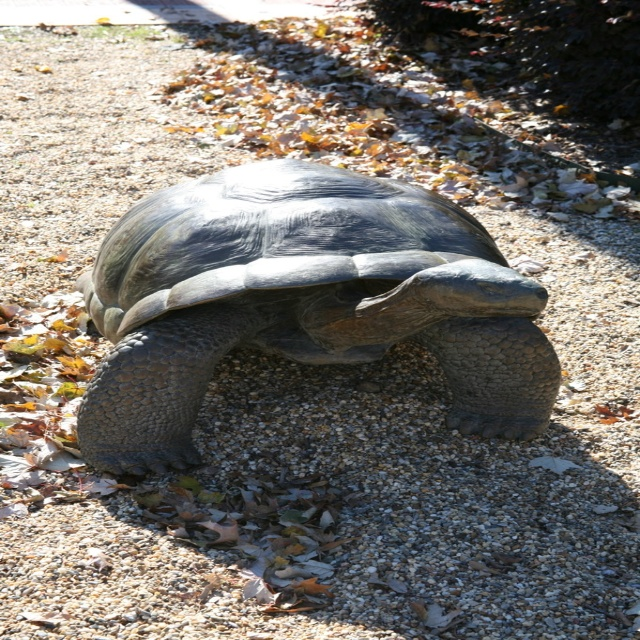Sea turtle: (72, 156, 563, 487)
